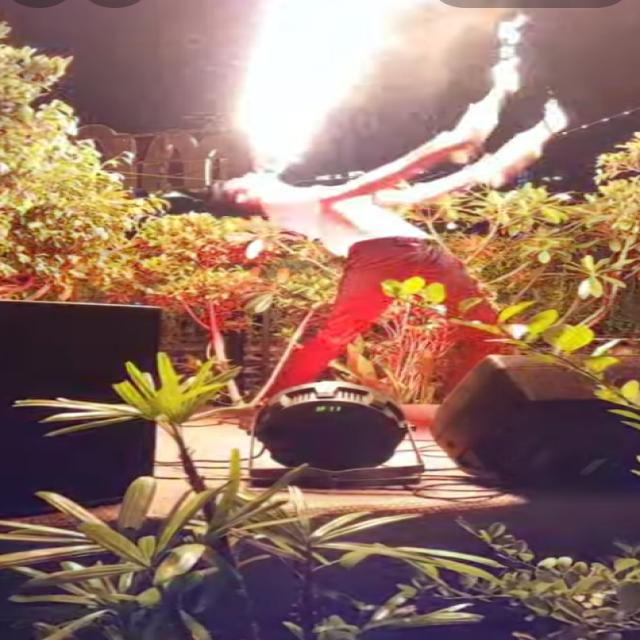fire: (230, 0, 425, 174)
